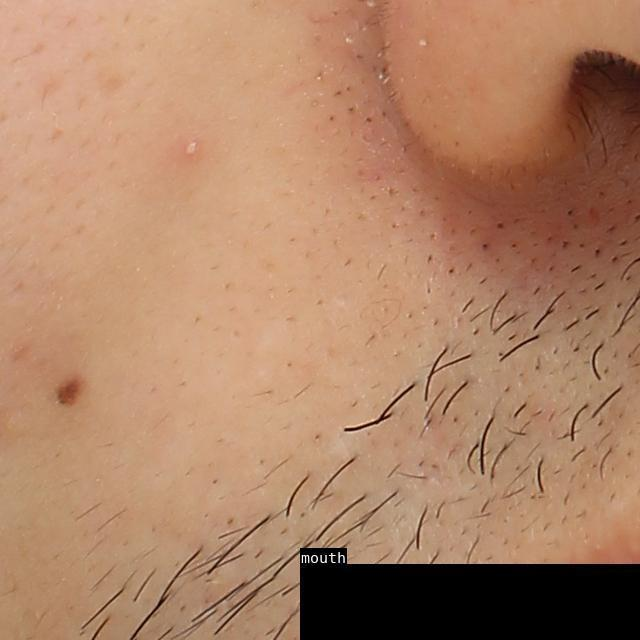nevus: (52, 370, 83, 403)
pustule: (182, 136, 202, 160)
